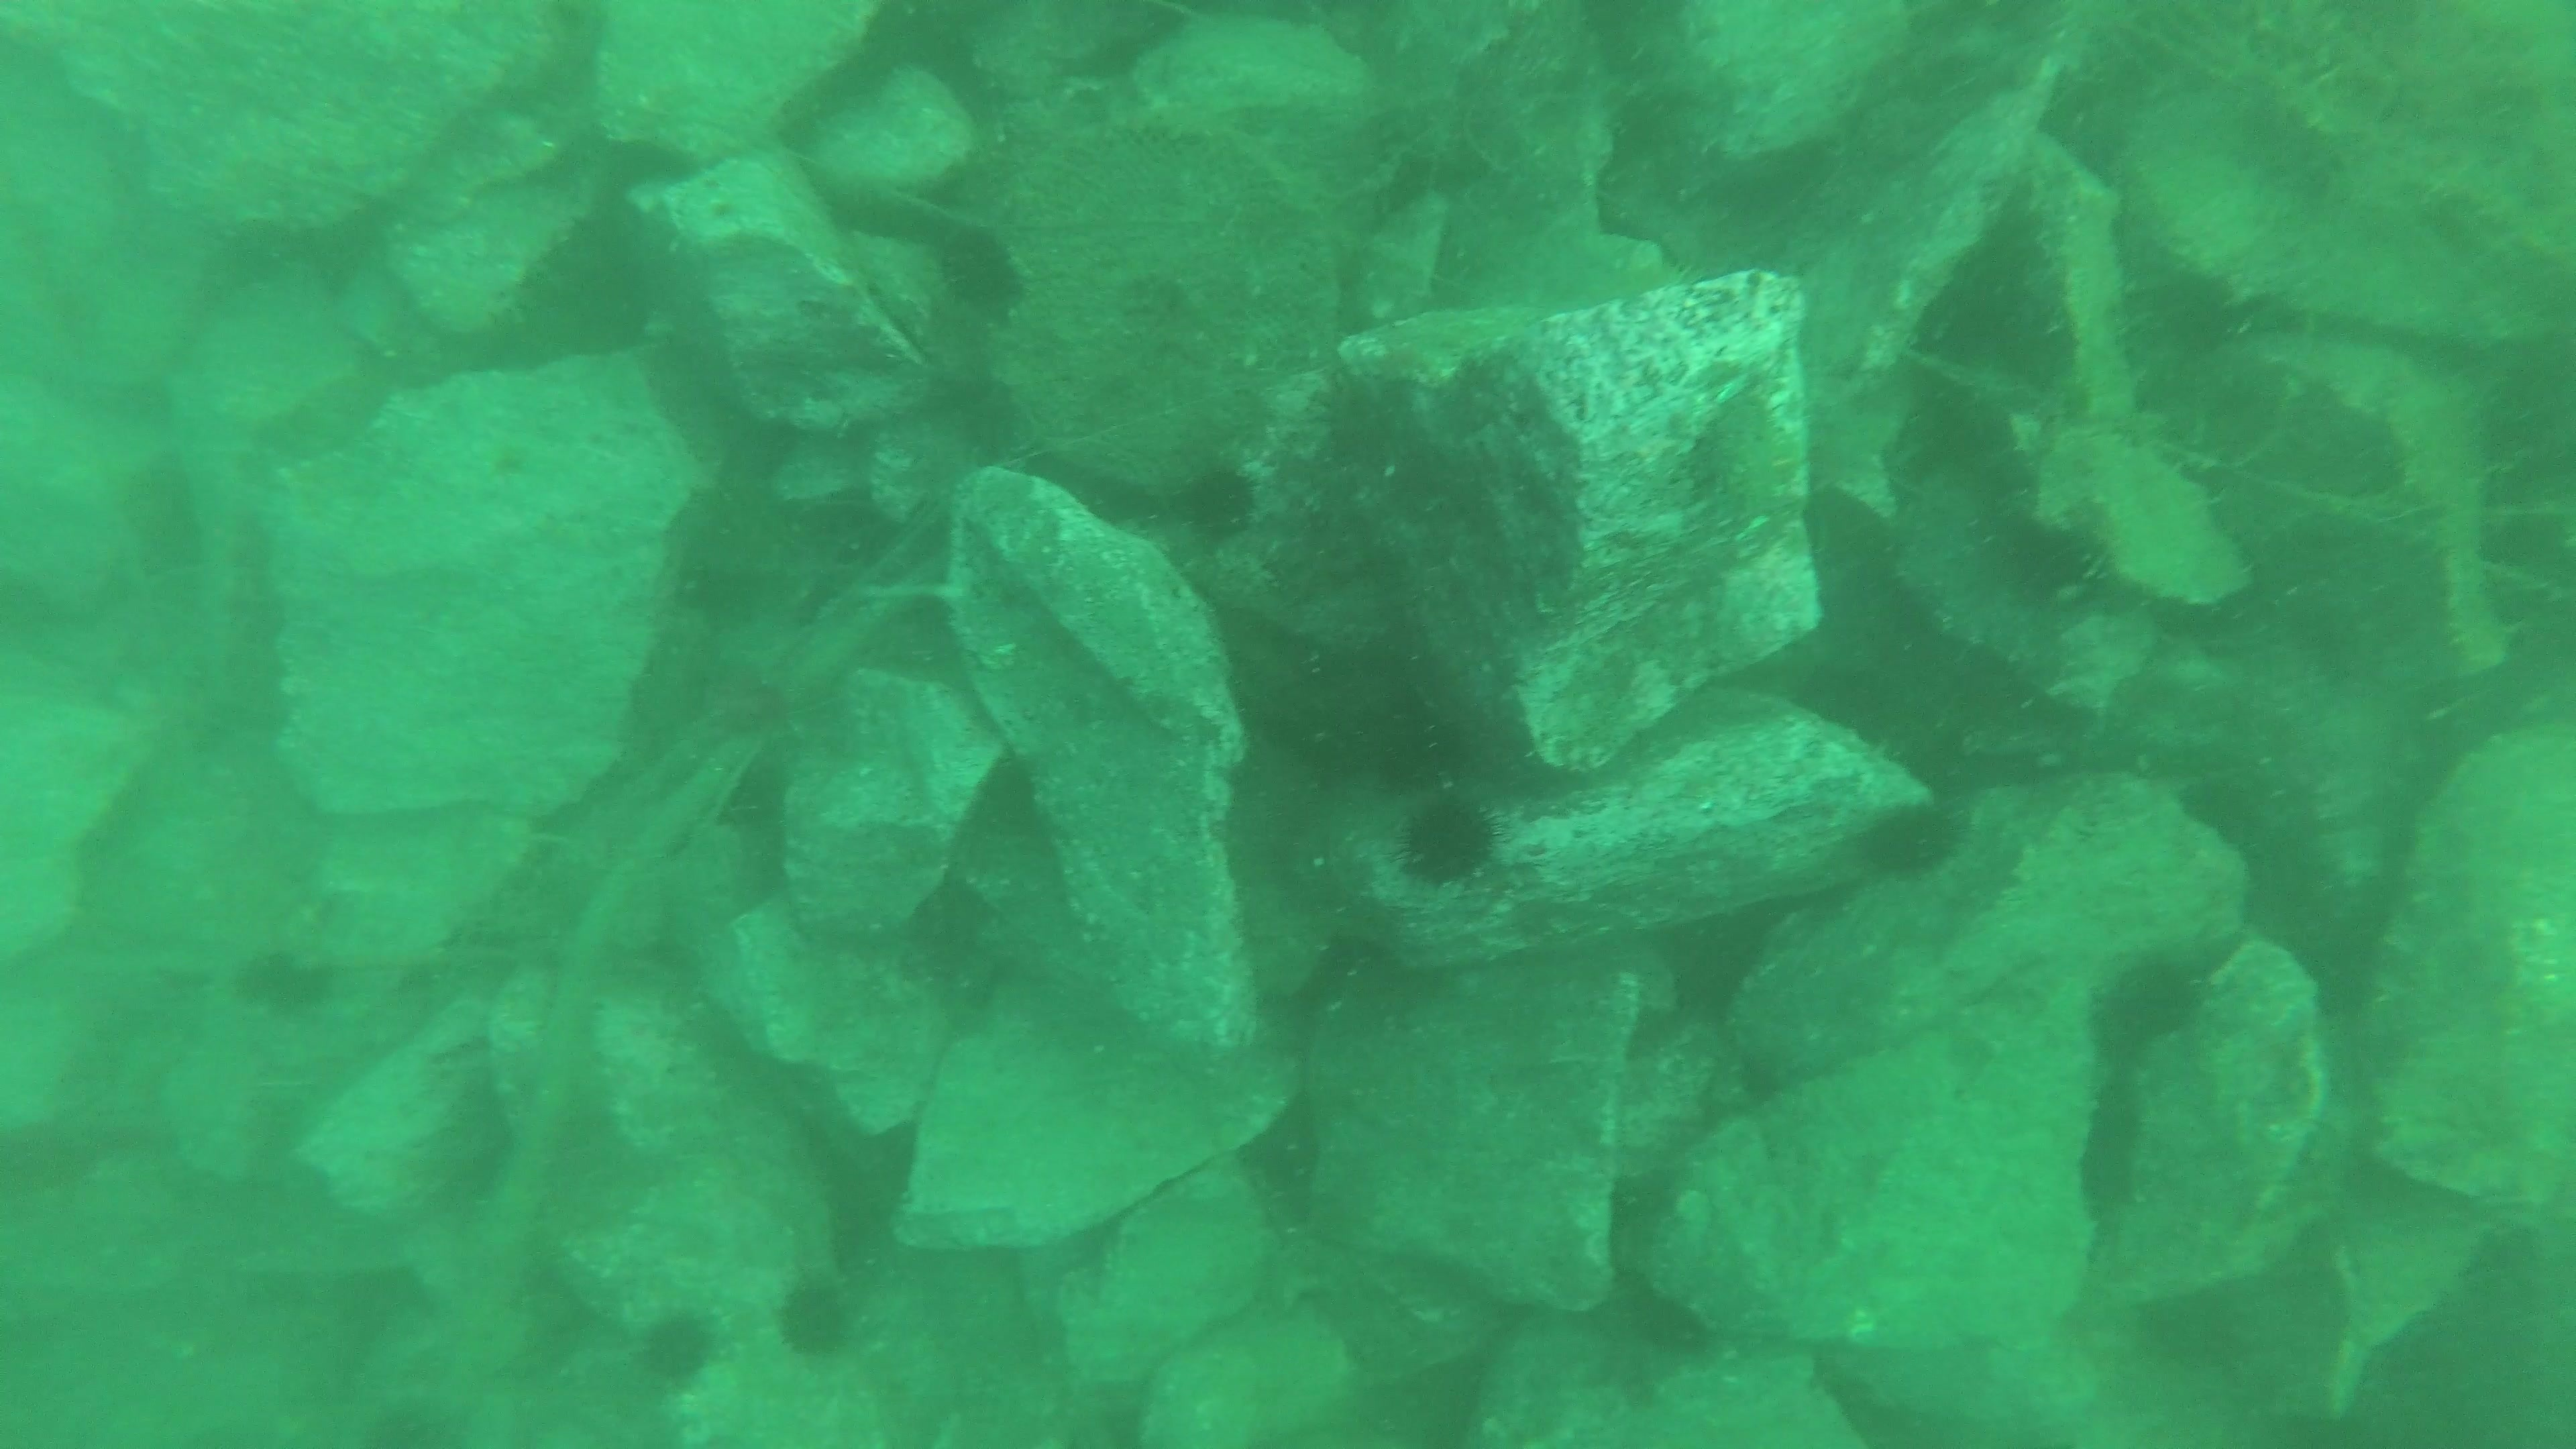echinus: (2088, 943, 2213, 1062), (1389, 786, 1507, 892), (1849, 793, 1967, 886), (931, 221, 1030, 322), (1169, 455, 1265, 550), (771, 1270, 863, 1366), (630, 1302, 724, 1392), (232, 939, 292, 1008), (272, 961, 333, 1008)
